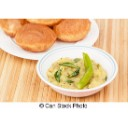poori: (15, 23, 55, 50), (55, 17, 90, 43), (1, 17, 26, 35)
